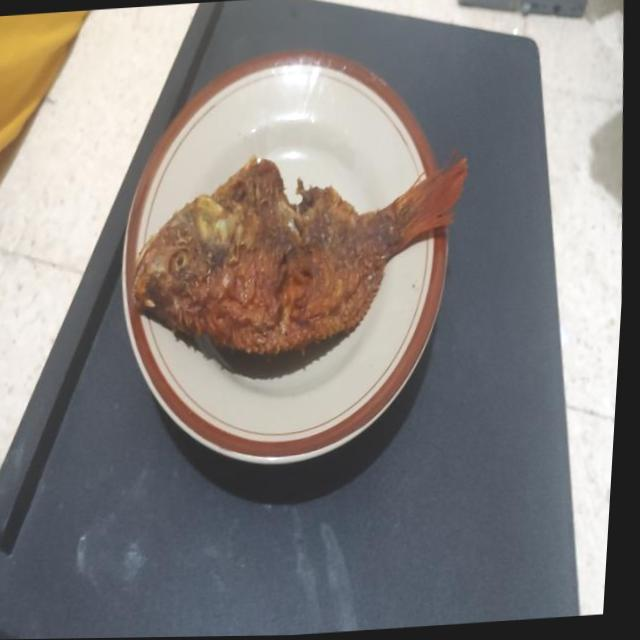ikan_mujair: (130, 157, 467, 360)
